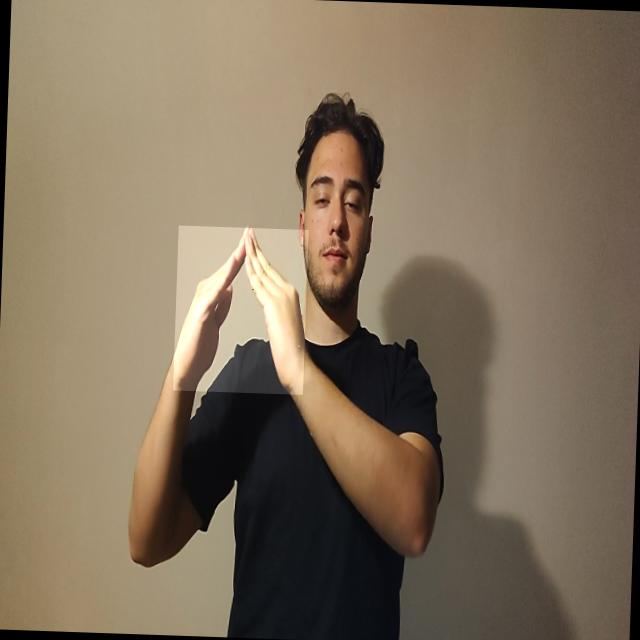house: (172, 224, 308, 394)
